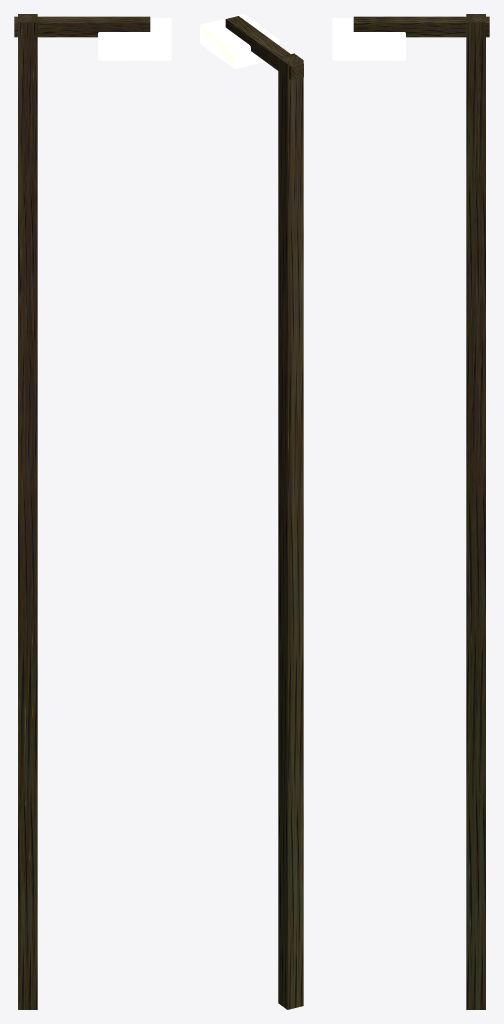
The model's file is yard_lamp.glb.
The picture shows the model from 3 angles, left to right: view 1: azimuth 90°, elevation 25°; view 2: azimuth 210°, elevation 25°; view 3: azimuth 270°, elevation 25°; orthographic projection. The views are drawn at different scales.
Parts seen in each view (by area): view 1: pole, head, arm; view 2: pole, head, arm; view 3: pole, head, arm.
Boxes of the visible parts, x1,y1,x2,y2 form: pole: (18,14,37,1009); head: (98,18,171,60); arm: (14,16,150,37); pole: (278,53,303,1009); head: (200,14,279,68); arm: (225,16,303,80); pole: (466,14,485,1009); head: (332,18,405,60); arm: (353,16,489,37).
Bounding box in the file's own units: 0.28 × 5.6 × 0.81.
2 materials, 1 textured.
